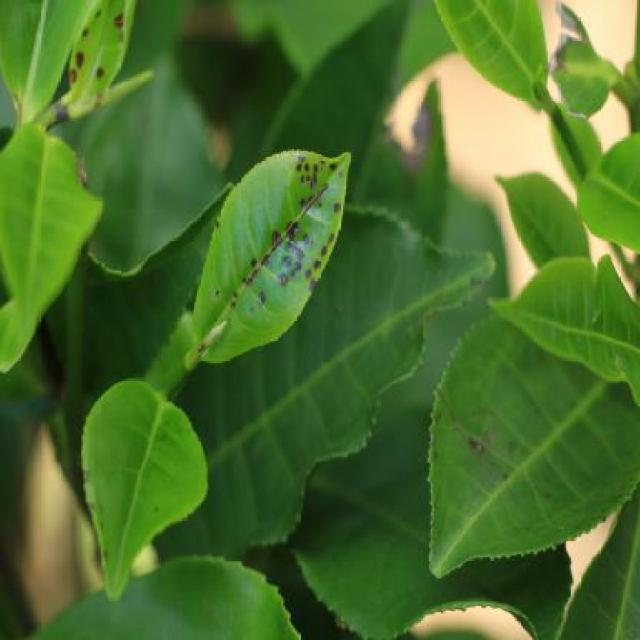Tea Mosquito bug infested leaf: (197, 140, 358, 351), (66, 0, 132, 106)
